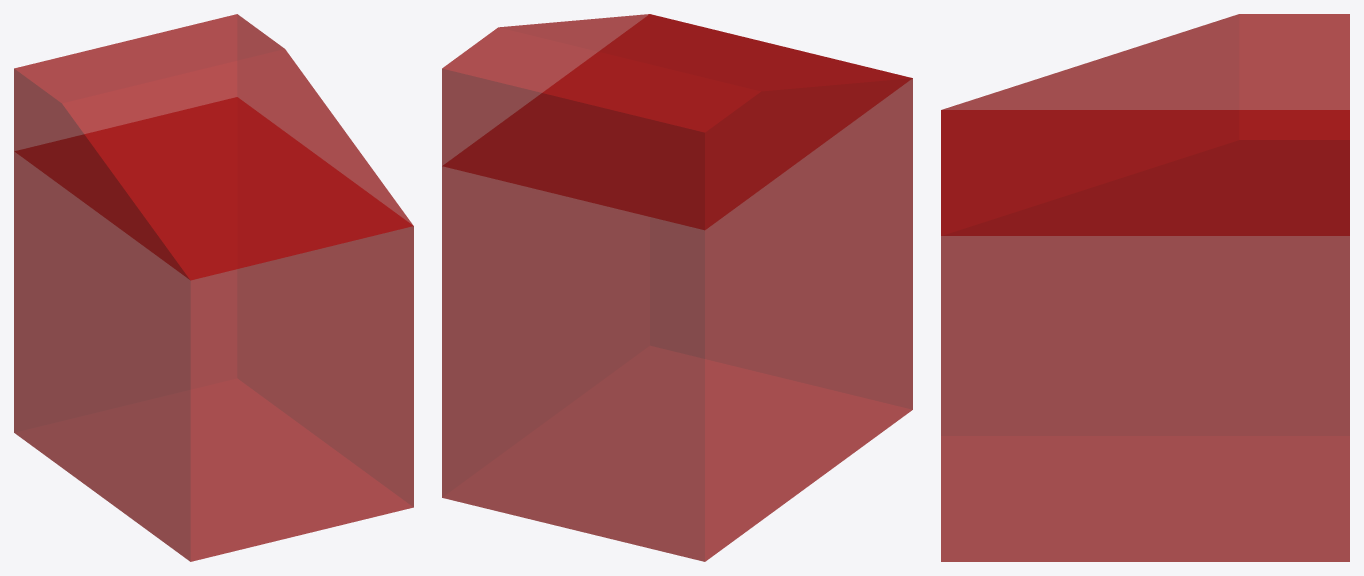
The model's file is SM_Env_Rock_Stairs_01_Collision.fbx.
3 views of the same model, side by side, from view 1: azimuth 30°, elevation 25°; view 2: azimuth 150°, elevation 25°; view 3: azimuth 270°, elevation 25° (orthographic). The views are drawn at different scales.
Visible parts, largest first — view 1: SM_Env_Rock_Stairs_01_Collision; view 2: SM_Env_Rock_Stairs_01_Collision; view 3: SM_Env_Rock_Stairs_01_Collision.
Part boxes in pixels (bbox=[...]): SM_Env_Rock_Stairs_01_Collision: bbox=[14, 14, 413, 561]; SM_Env_Rock_Stairs_01_Collision: bbox=[442, 14, 912, 561]; SM_Env_Rock_Stairs_01_Collision: bbox=[941, 14, 1349, 561].
Size of the model in its own units: 321 by 500 by 439.
